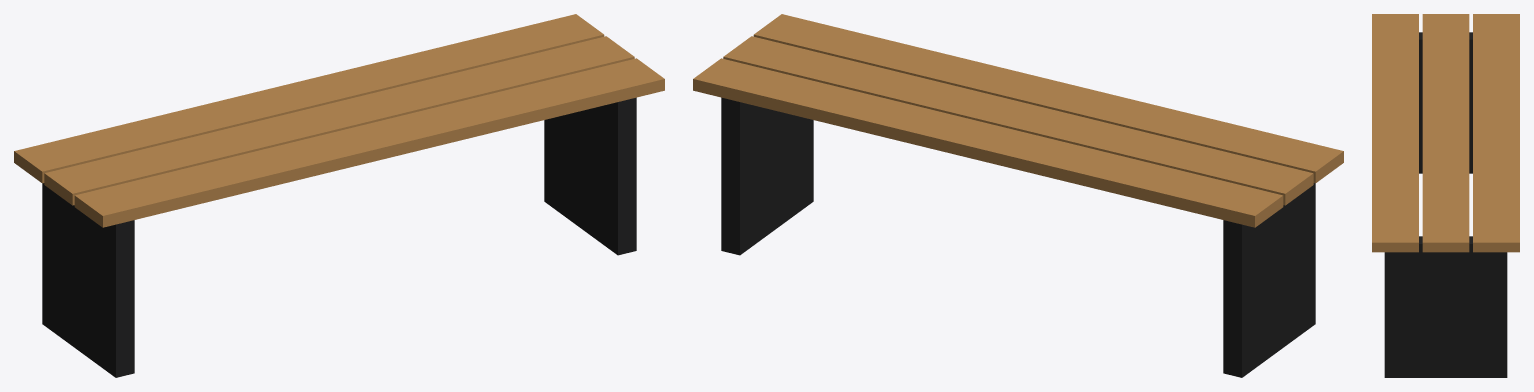
The model's file is parametric-bench-crew.glb.
3 views of the same model, side by side, from view 1: azimuth 30°, elevation 25°; view 2: azimuth 150°, elevation 25°; view 3: azimuth 270°, elevation 25° (orthographic). The views are drawn at different scales.
Parts seen in each view (by area): view 1: parametric-bench-crew; view 2: parametric-bench-crew; view 3: parametric-bench-crew.
Part boxes in pixels (x1,y1,x2,y2): parametric-bench-crew: (14,14,664,377); parametric-bench-crew: (693,14,1343,377); parametric-bench-crew: (1372,14,1519,377).
Size of the model in its own units: 1.5 by 0.44 by 0.41.
